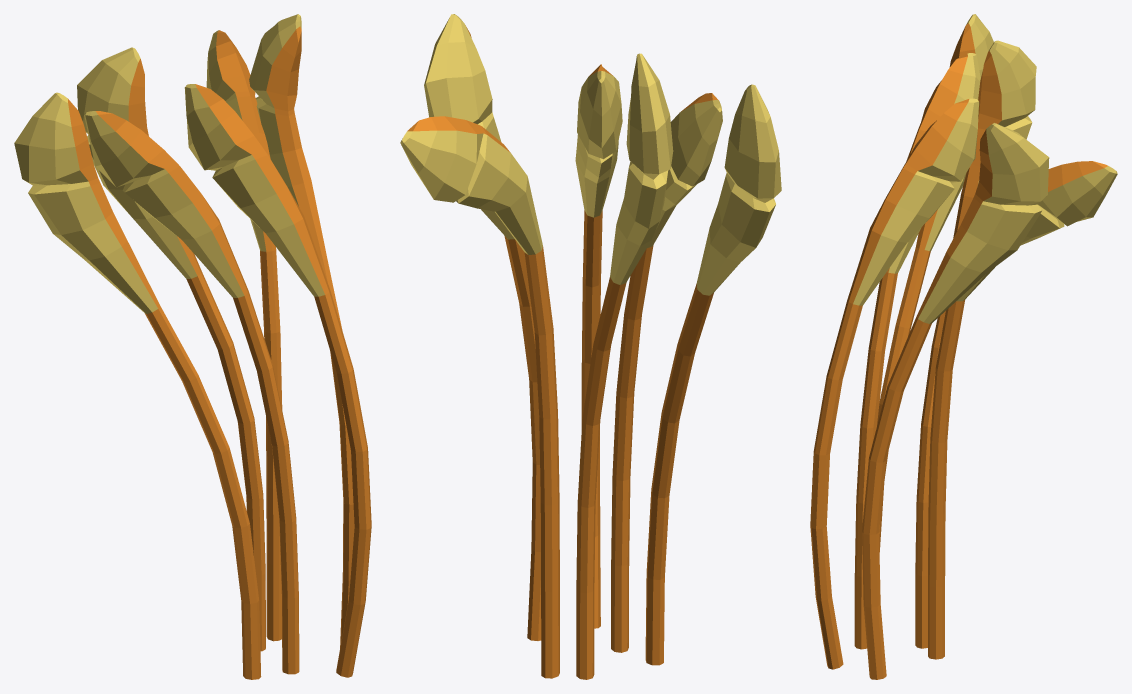
File: Gras_02_Var_04.fbx
3 renders of one model, left to right at view 1: azimuth 30°, elevation 25°; view 2: azimuth 150°, elevation 25°; view 3: azimuth 270°, elevation 25°, orthographic. The views are drawn at different scales.
Visible parts, largest first — view 1: Gras_02_Var_04; view 2: Gras_02_Var_04; view 3: Gras_02_Var_04.
Boxes of the visible parts, x1=… form: Gras_02_Var_04: x1=14, y1=14, x2=371, y2=679; Gras_02_Var_04: x1=400, y1=14, x2=781, y2=679; Gras_02_Var_04: x1=810, y1=14, x2=1117, y2=679.
Size of the model in its own units: 0.2045 by 0.4164 by 0.211.
